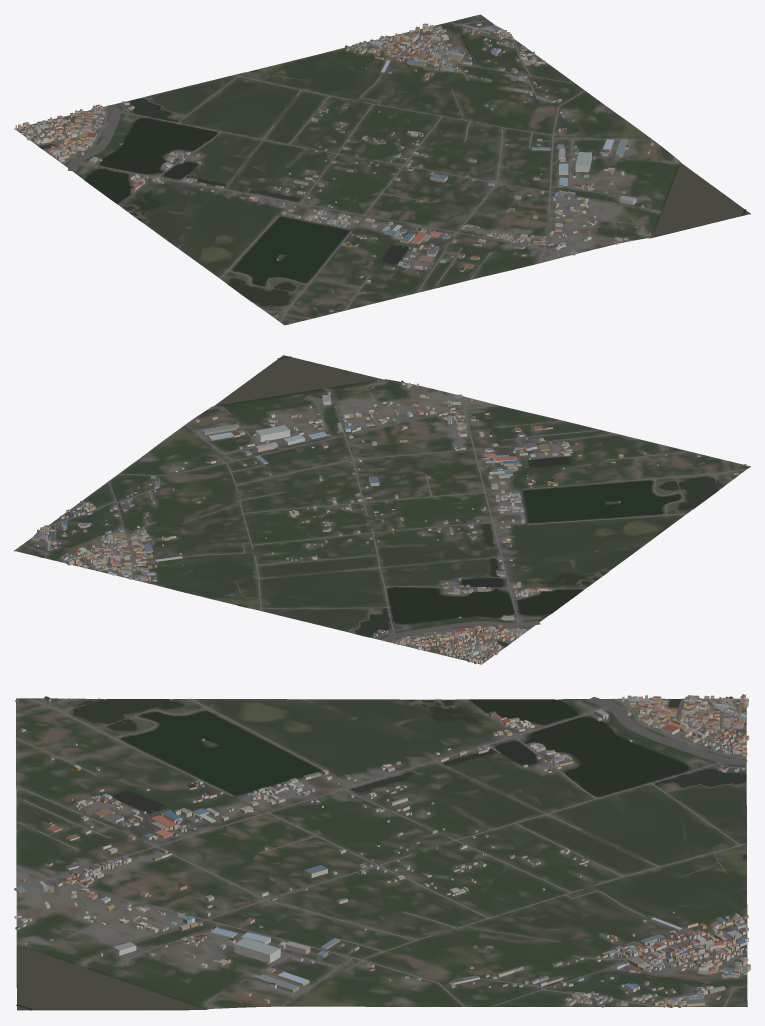
3 views of the same model, one above another, from view 1: azimuth 30°, elevation 25°; view 2: azimuth 150°, elevation 25°; view 3: azimuth 270°, elevation 25° (orthographic). The views are drawn at different scales.
Parts seen in each view (by area): view 1: ground, water, buildings, roads; view 2: ground, water, buildings, roads; view 3: ground, water, buildings, roads.
Boxes of the visible parts, x1,y1,x2,y2 form: ground: (14,14,750,325); water: (39,21,749,307); buildings: (15,23,653,324); roads: (14,20,678,322); ground: (14,357,750,664); water: (40,355,721,646); buildings: (32,379,746,664); roads: (22,382,746,664); ground: (16,698,747,1010); water: (16,699,746,1010); buildings: (14,694,750,1007); roads: (16,697,747,1008).
Bounding box in the file's own units: 1415 × 28.8 × 1414.
